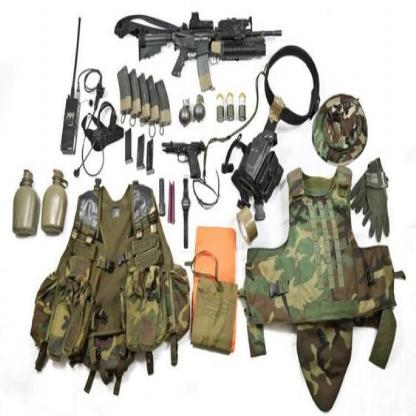Grenade: (178, 95, 192, 128), (192, 93, 206, 125)
Gun: (112, 9, 282, 92)
Pistol: (160, 137, 205, 183)
